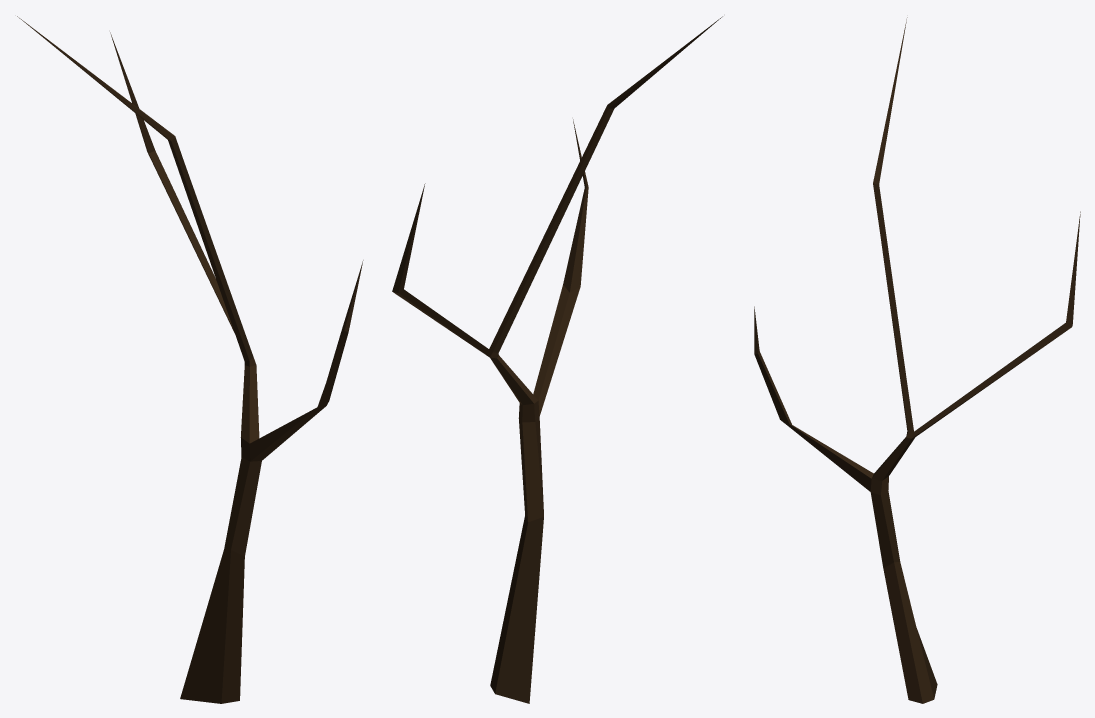
Rendered from TreeTrunk_36.fbx.
The picture shows the model from 3 angles, left to right: view 1: azimuth 30°, elevation 25°; view 2: azimuth 150°, elevation 25°; view 3: azimuth 270°, elevation 25°; orthographic projection. The views are drawn at different scales.
Parts seen in each view (by area): view 1: TreeTrunk_36; view 2: TreeTrunk_36; view 3: TreeTrunk_36.
Part boxes in pixels (<box>): TreeTrunk_36: <box>17,16,363,703</box>; TreeTrunk_36: <box>392,16,722,703</box>; TreeTrunk_36: <box>754,17,1080,703</box>.
Size of the model in its own units: 202 by 564 by 279.
